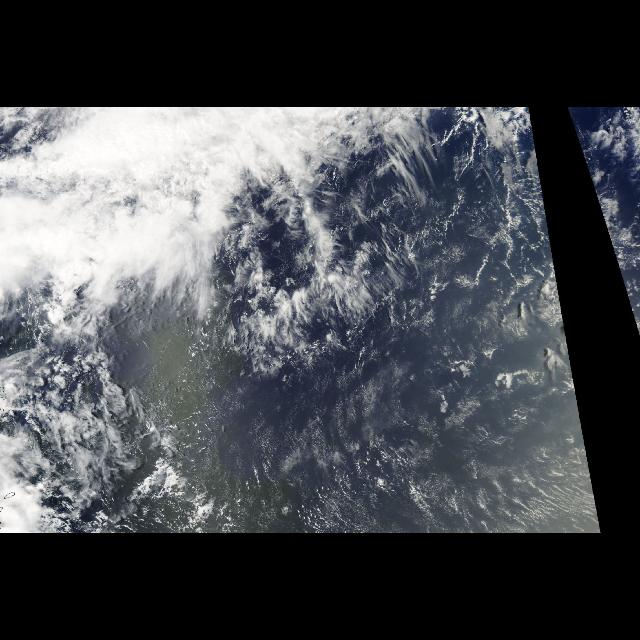Sugar: (244, 376, 592, 514)
